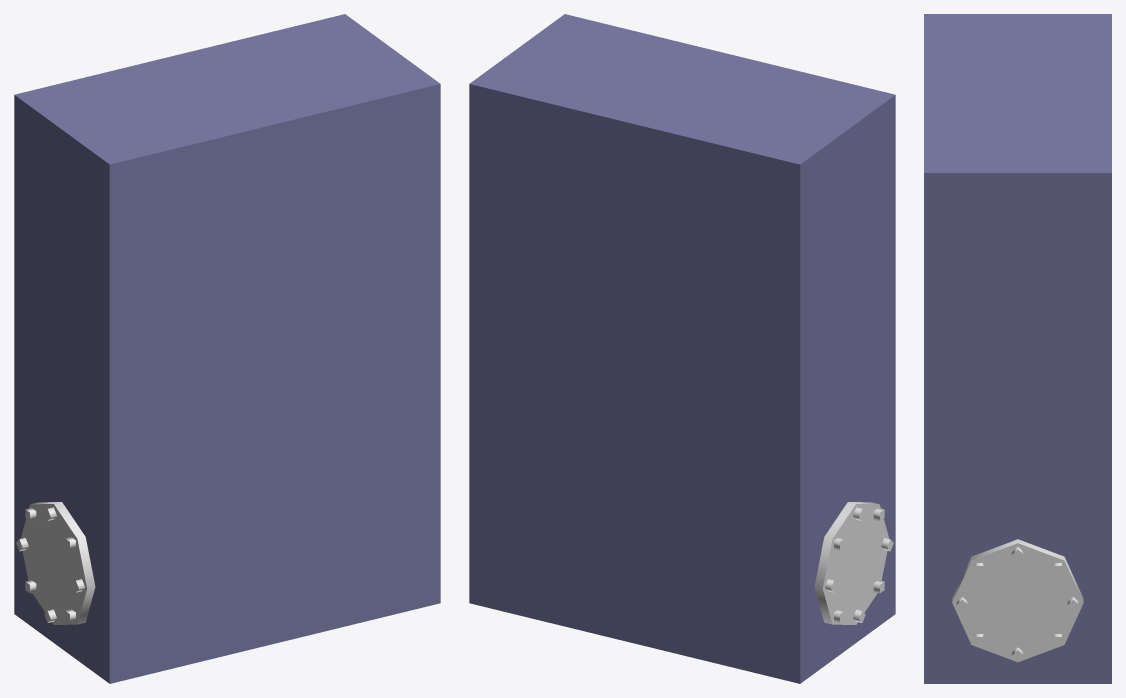
The model's file is fluidmicro.fbx.
3 views of the same model, side by side, from view 1: azimuth 30°, elevation 25°; view 2: azimuth 150°, elevation 25°; view 3: azimuth 270°, elevation 25° (orthographic).
Parts seen in each view (by area): view 1: SmallStorage_StorageFluidMicro; view 2: SmallStorage_StorageFluidMicro; view 3: SmallStorage_StorageFluidMicro.
Boxes of the visible parts, box(x1,y1,x2,y2) form: SmallStorage_StorageFluidMicro: box(14, 14, 440, 683); SmallStorage_StorageFluidMicro: box(469, 14, 895, 683); SmallStorage_StorageFluidMicro: box(924, 14, 1111, 683).
Bounding box in the file's own units: 435 × 600 × 200.
